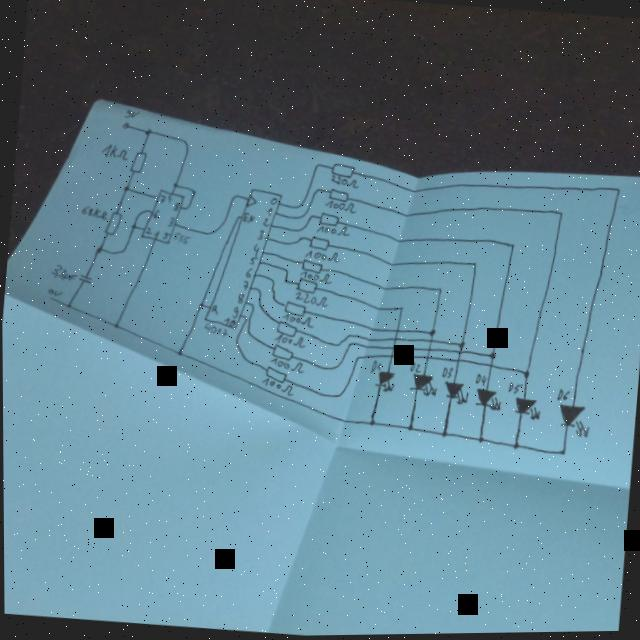capacitor: (75, 270, 91, 285)
crossover: (391, 326, 398, 333), (390, 334, 397, 341), (455, 347, 462, 354), (389, 343, 394, 350), (388, 352, 393, 358), (426, 337, 431, 343), (425, 346, 430, 352), (423, 354, 428, 360), (454, 357, 459, 363), (486, 362, 491, 368)
diode: (553, 403, 589, 438), (511, 395, 539, 421), (406, 372, 436, 396), (472, 387, 500, 411), (440, 380, 467, 404), (371, 368, 393, 393)
junction: (204, 217, 223, 235), (328, 385, 345, 398), (178, 137, 188, 153), (254, 298, 263, 314), (294, 196, 303, 209), (253, 283, 262, 294), (232, 335, 239, 349), (510, 440, 519, 450), (345, 330, 356, 338), (120, 183, 129, 192), (115, 246, 124, 255), (366, 417, 375, 426), (267, 293, 276, 302), (142, 126, 151, 135), (135, 207, 145, 215), (426, 326, 434, 336), (244, 327, 251, 338), (93, 243, 101, 252), (227, 191, 235, 200), (311, 160, 319, 169), (287, 237, 296, 245), (439, 428, 446, 438), (521, 369, 528, 379), (311, 185, 318, 195), (298, 208, 305, 218), (267, 275, 274, 285), (188, 187, 196, 195), (404, 423, 412, 431), (296, 223, 304, 231), (558, 447, 565, 456), (128, 221, 135, 229), (170, 179, 177, 187), (195, 300, 202, 308), (175, 347, 182, 355), (111, 320, 118, 328), (555, 209, 562, 217), (332, 340, 340, 347), (352, 353, 359, 361), (456, 340, 463, 348), (487, 351, 494, 359), (280, 275, 287, 283), (246, 300, 253, 308), (182, 202, 189, 209), (475, 435, 482, 442), (613, 186, 620, 193), (469, 259, 476, 266), (345, 339, 352, 346), (332, 361, 339, 368), (306, 212, 313, 219), (281, 265, 288, 272), (63, 299, 70, 306), (241, 313, 246, 321), (234, 213, 239, 219), (508, 242, 513, 248), (436, 285, 441, 291), (397, 304, 402, 310), (298, 234, 303, 240)
resistor: (101, 209, 120, 236), (280, 298, 306, 317), (262, 363, 286, 383), (268, 341, 292, 361), (328, 160, 354, 178), (273, 318, 296, 338), (293, 275, 316, 295), (127, 149, 146, 173), (299, 257, 323, 274), (306, 233, 329, 250), (326, 185, 347, 203), (317, 209, 338, 226)
terminal: (119, 120, 128, 129), (47, 294, 51, 298)
text: (259, 376, 292, 395), (268, 356, 303, 373), (47, 261, 76, 281), (293, 290, 326, 307), (99, 141, 128, 160), (302, 248, 338, 262), (272, 331, 303, 347), (297, 269, 330, 284), (313, 222, 348, 236), (322, 198, 354, 213), (280, 312, 312, 327), (200, 320, 226, 337), (79, 203, 106, 219), (329, 174, 358, 188), (170, 230, 189, 244), (505, 380, 521, 394), (367, 358, 380, 373), (554, 388, 569, 401), (122, 106, 138, 118), (472, 372, 485, 386), (44, 285, 61, 295), (407, 359, 420, 372), (438, 365, 451, 378), (250, 240, 260, 256), (240, 210, 253, 222), (221, 316, 234, 327), (254, 226, 263, 240), (246, 254, 256, 265), (242, 266, 251, 277), (230, 304, 237, 316), (240, 278, 247, 290), (160, 230, 169, 239), (235, 291, 242, 302), (171, 200, 178, 211), (268, 195, 276, 204), (209, 303, 216, 313), (151, 208, 158, 218), (165, 216, 172, 226), (157, 192, 164, 202), (260, 215, 267, 225), (151, 229, 158, 237), (265, 206, 270, 216), (143, 225, 150, 232), (165, 193, 170, 201)
